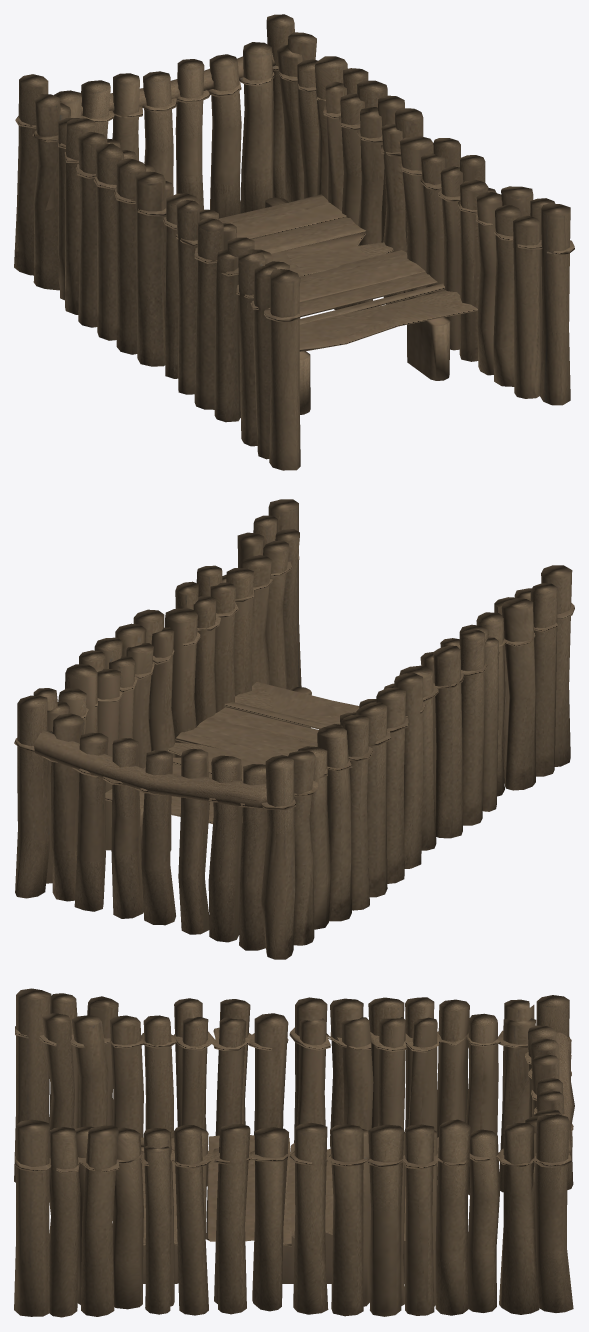
The model's file is sur_2_palisat.glb.
3 views of the same model, one above another, from view 1: azimuth 30°, elevation 25°; view 2: azimuth 150°, elevation 25°; view 3: azimuth 270°, elevation 25° (orthographic).
Size of the model in its own units: 0.5942 by 0.354 by 0.9546.
Materials: 1 (1 with a texture image).
